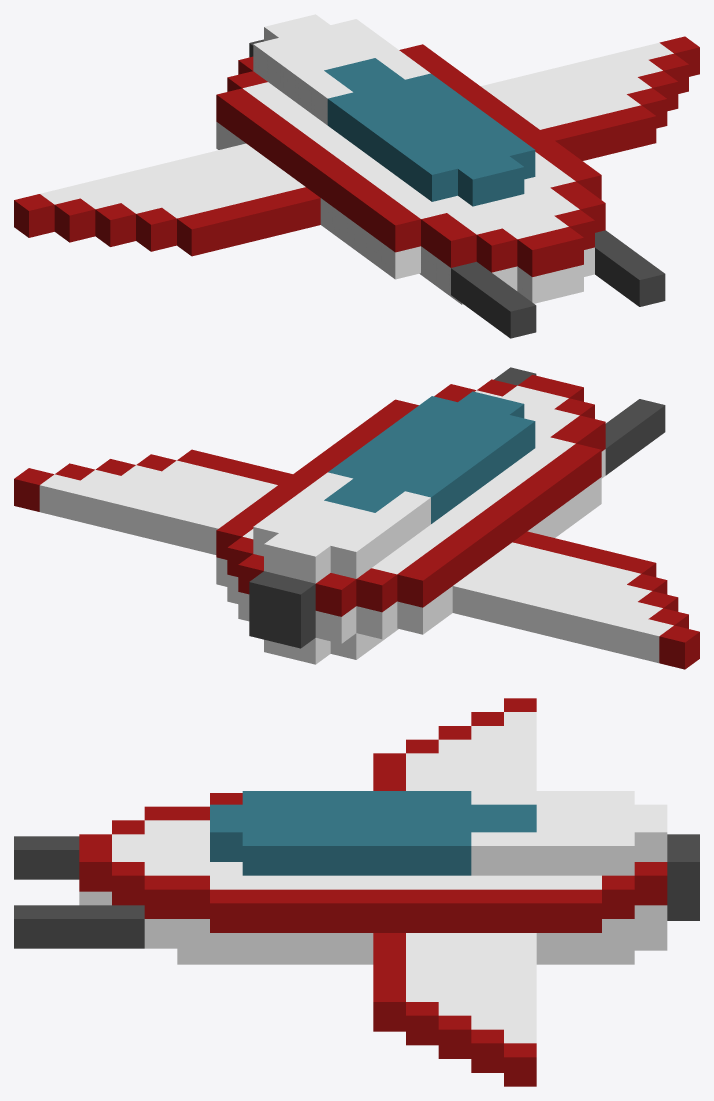
The model's file is spaceship.gltf.
3 renders of one model, top to bottom at view 1: azimuth 30°, elevation 25°; view 2: azimuth 150°, elevation 25°; view 3: azimuth 270°, elevation 25°, orthographic. The views are drawn at different scales.
Visible parts, largest first — view 1: Layer.1; view 2: Layer.1; view 3: Layer.1.
Boxes of the visible parts, <box> form: Layer.1: <box>14,14,699,338</box>; Layer.1: <box>14,367,699,669</box>; Layer.1: <box>14,698,699,1086</box>.
Bounding box in the file's own units: 26 × 4 × 21.
1 material, 1 textured.
